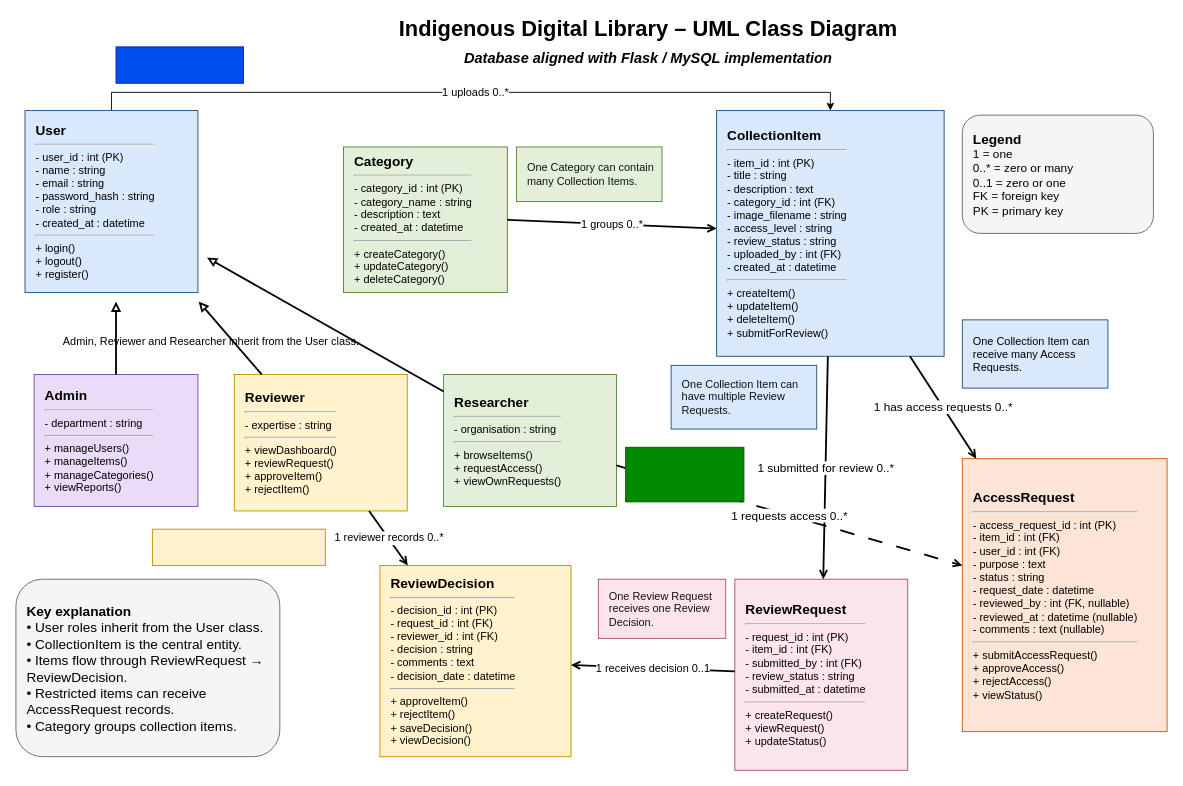
This 1183x786 diagram has some shape labels left out. Here are the shapes that lost their labels. From the top down, the box of each, then its label:
(115, 46, 243, 83): One User can upload many Collection Items.
(625, 446, 744, 502): One Researcher can submit many Access Requests.
(152, 528, 325, 566): One Reviewer can complete many Review Decisions.
